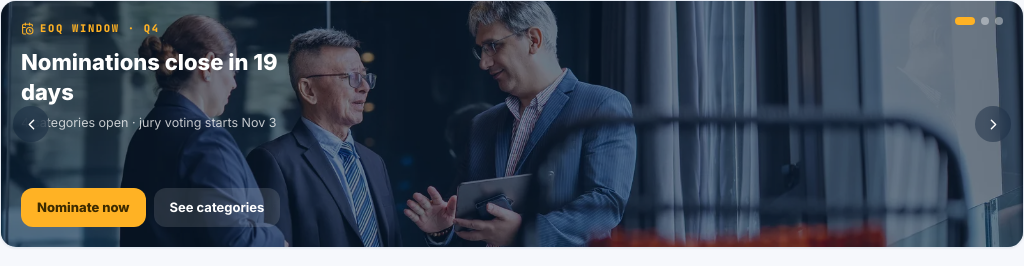
Test: EoQShowcase (integration) › previous arrow wraps back to the last slide
What coordinates should you click on to do the following:
click the button named "Previous slide"
I would click on:
 (31, 124)
Its box is [13, 106, 49, 142].
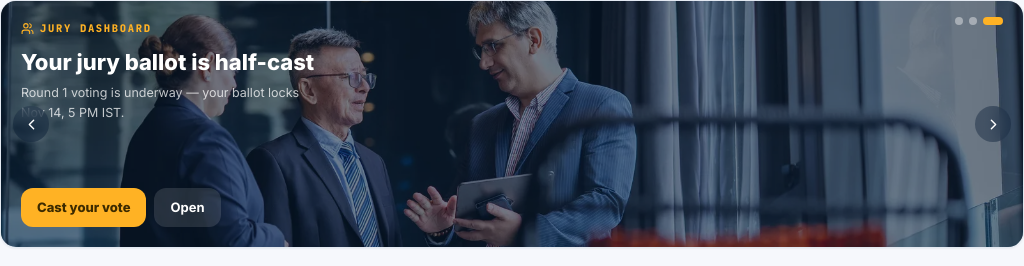
Check: the text "Your jury ballot is half-cast" is shown, box [21, 47, 321, 77]
